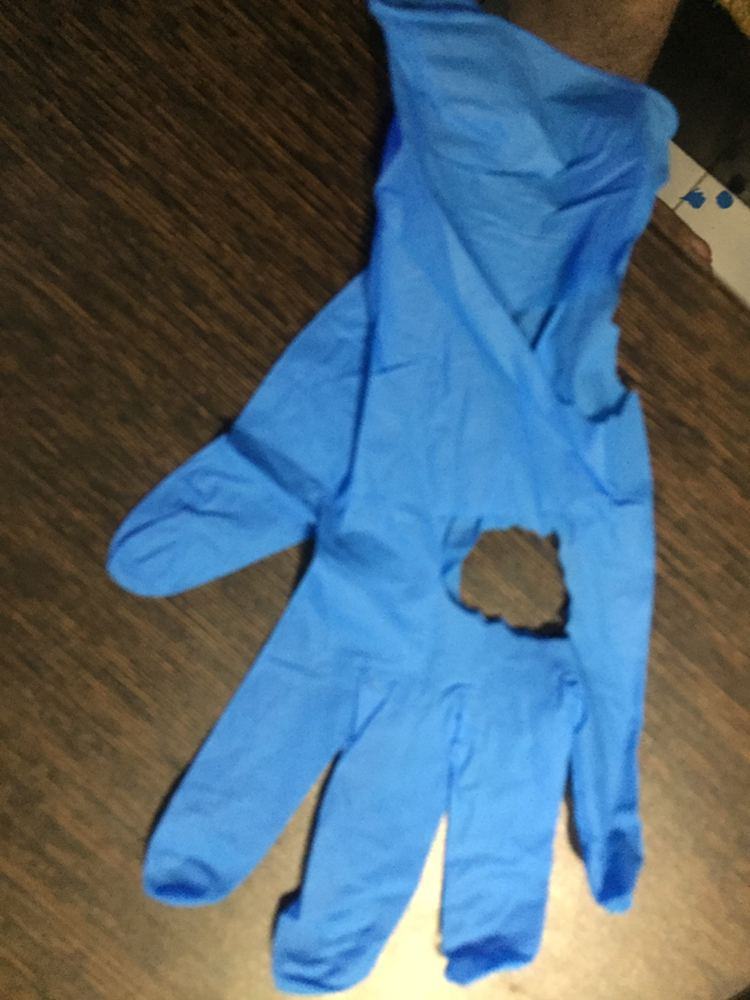defected: (115, 153, 718, 968)
